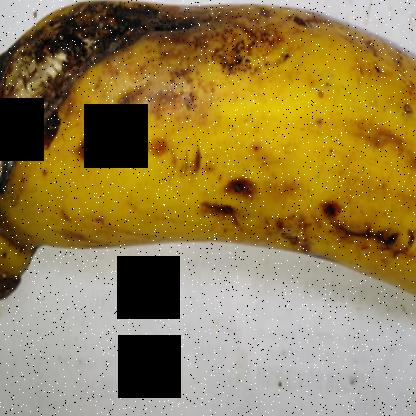ripe: (174, 0, 415, 308)
rotten: (1, 0, 189, 214)
